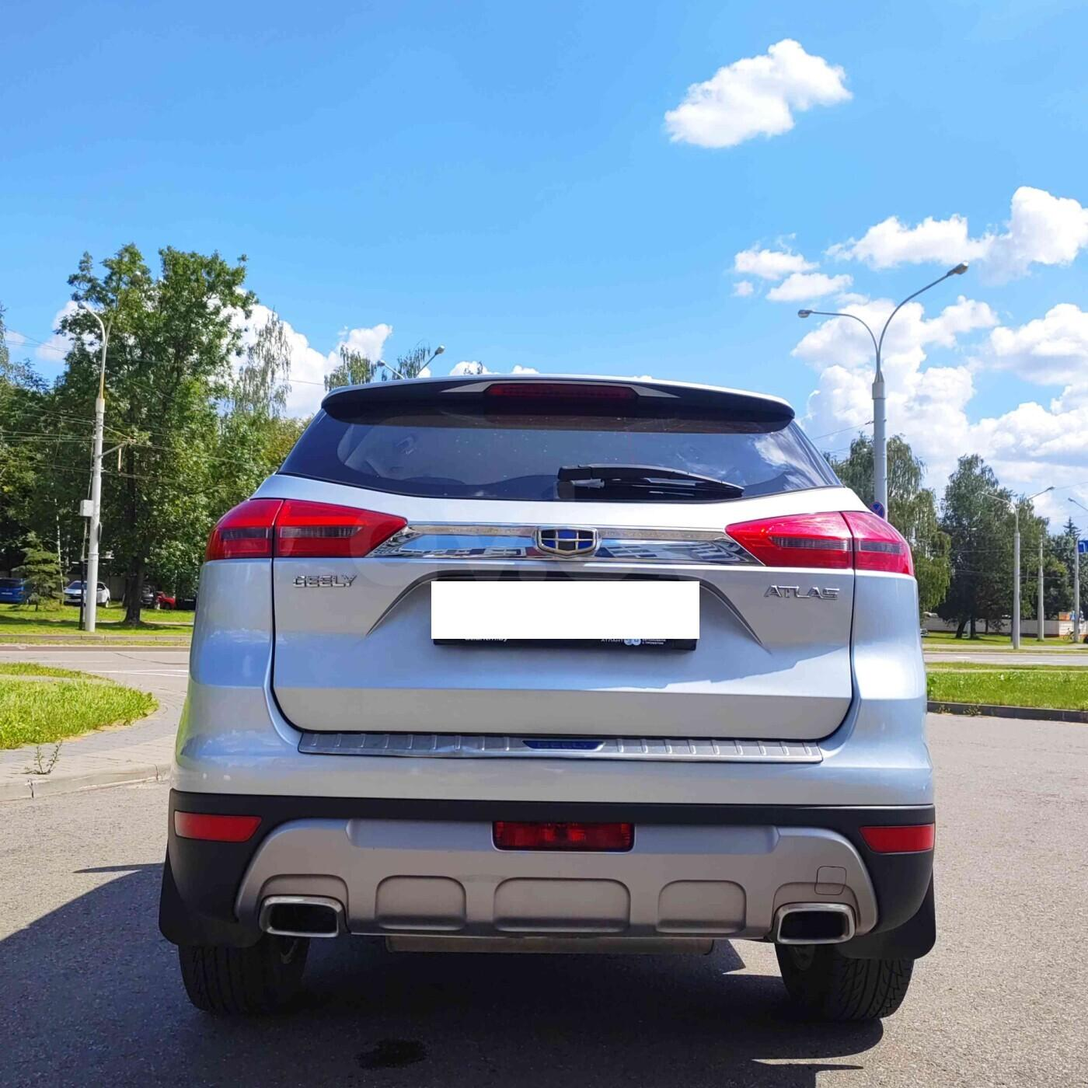Atlas_2016-2023: (146, 364, 948, 1043)
